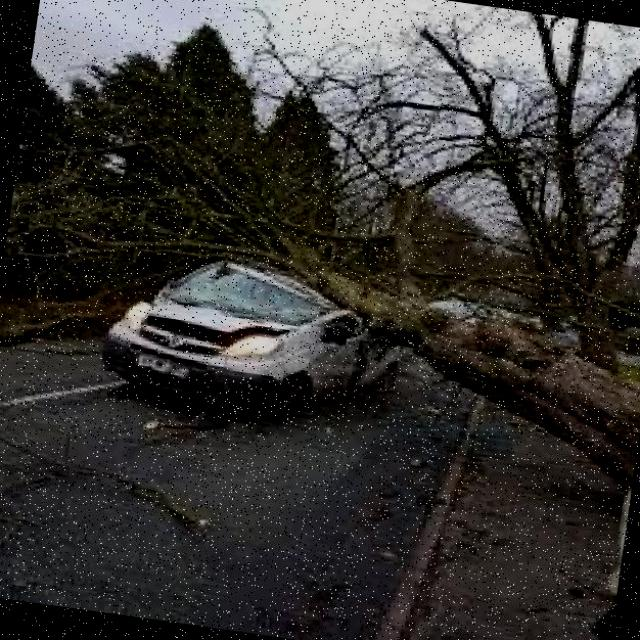fallen_object: (57, 142, 640, 493)
